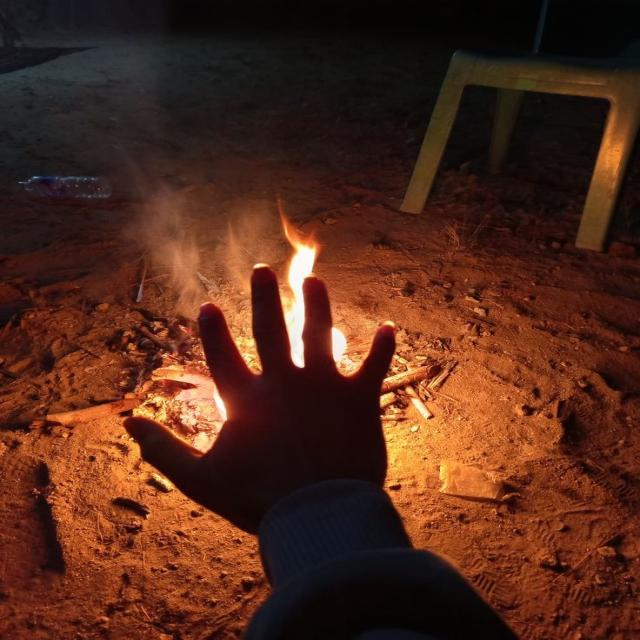fire: (268, 200, 348, 369)
